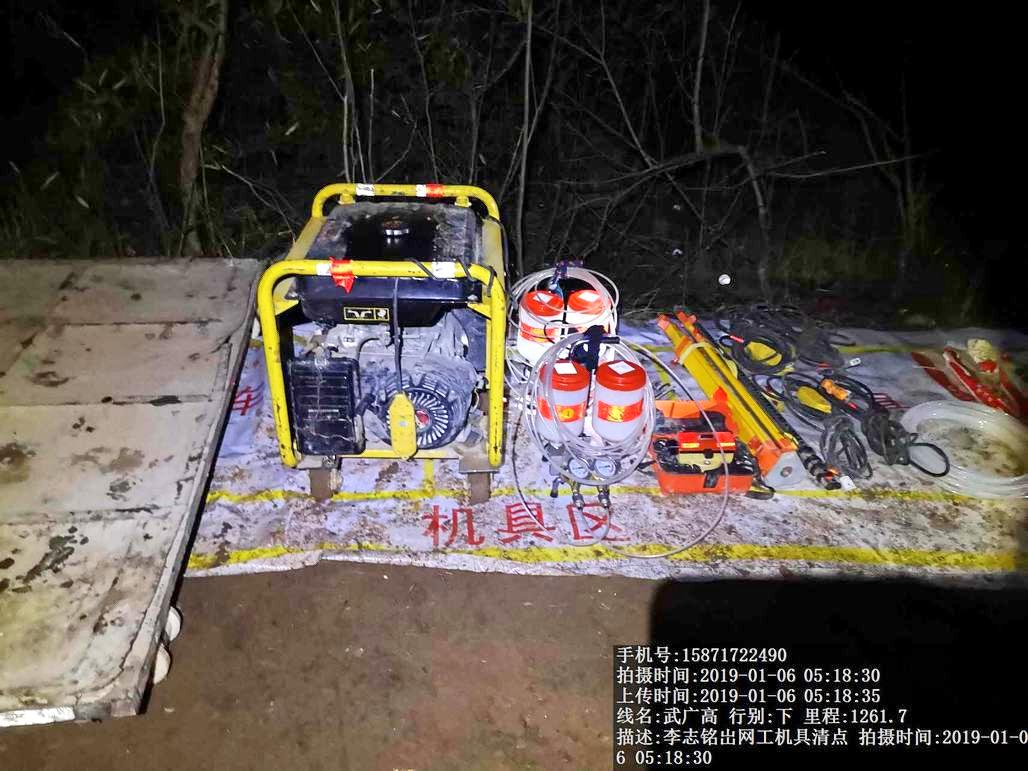DJ: (254, 176, 509, 499)
SG: (905, 402, 1021, 504)
